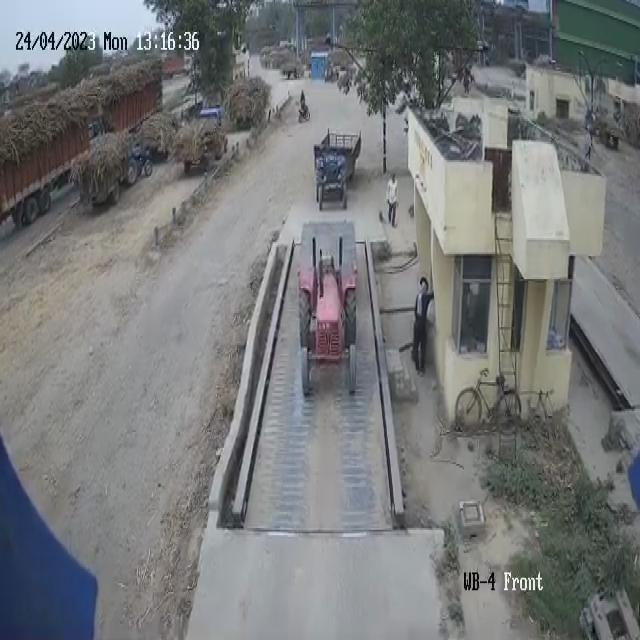Tratores - v5 YOLO V8L 2024-11-13: (291, 228, 361, 406), (314, 150, 352, 217), (122, 132, 156, 186)
